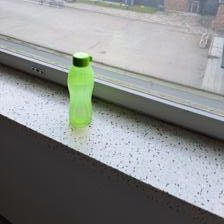bottle: (64, 49, 97, 130)
